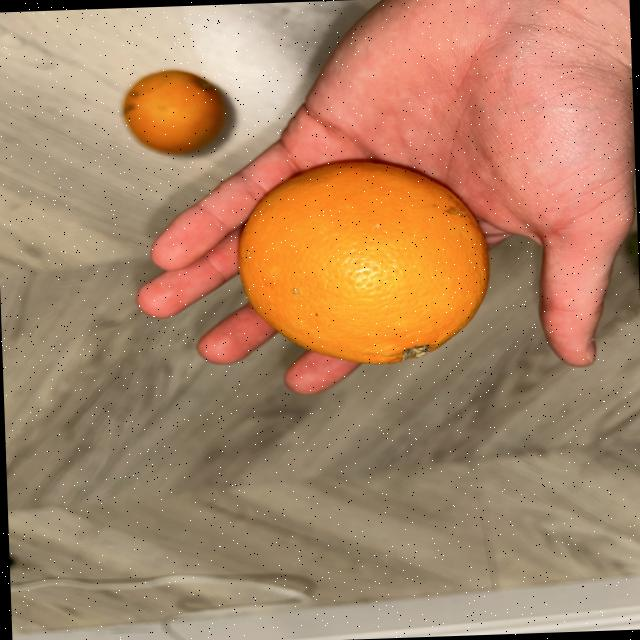orange: (237, 161, 487, 363), (122, 70, 223, 153)
